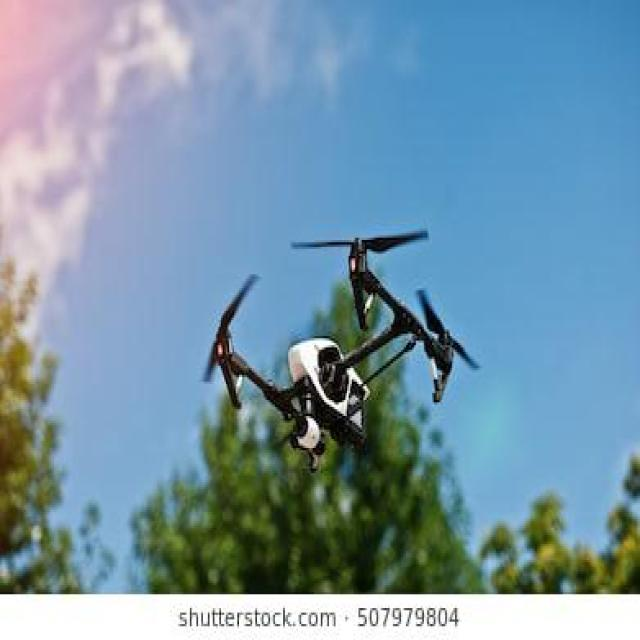drone: (200, 201, 488, 494)
